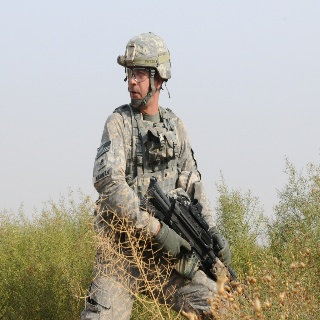rifle: (138, 175, 238, 290)
